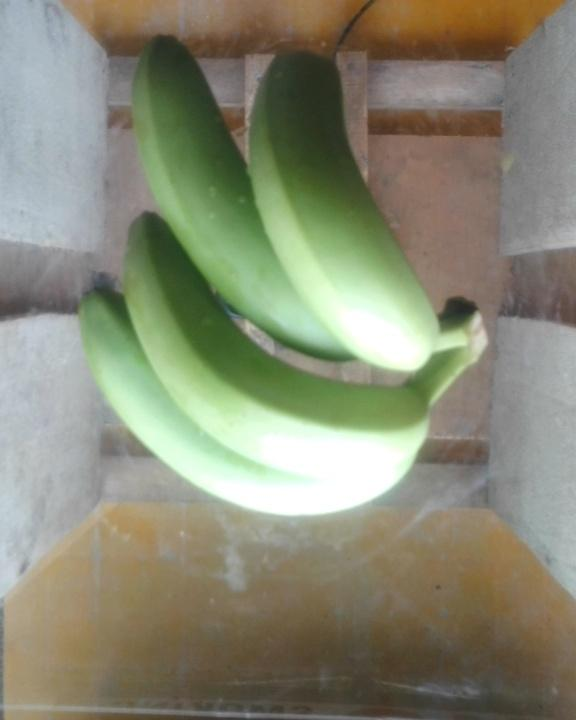SPOT: (64, 13, 529, 527)
